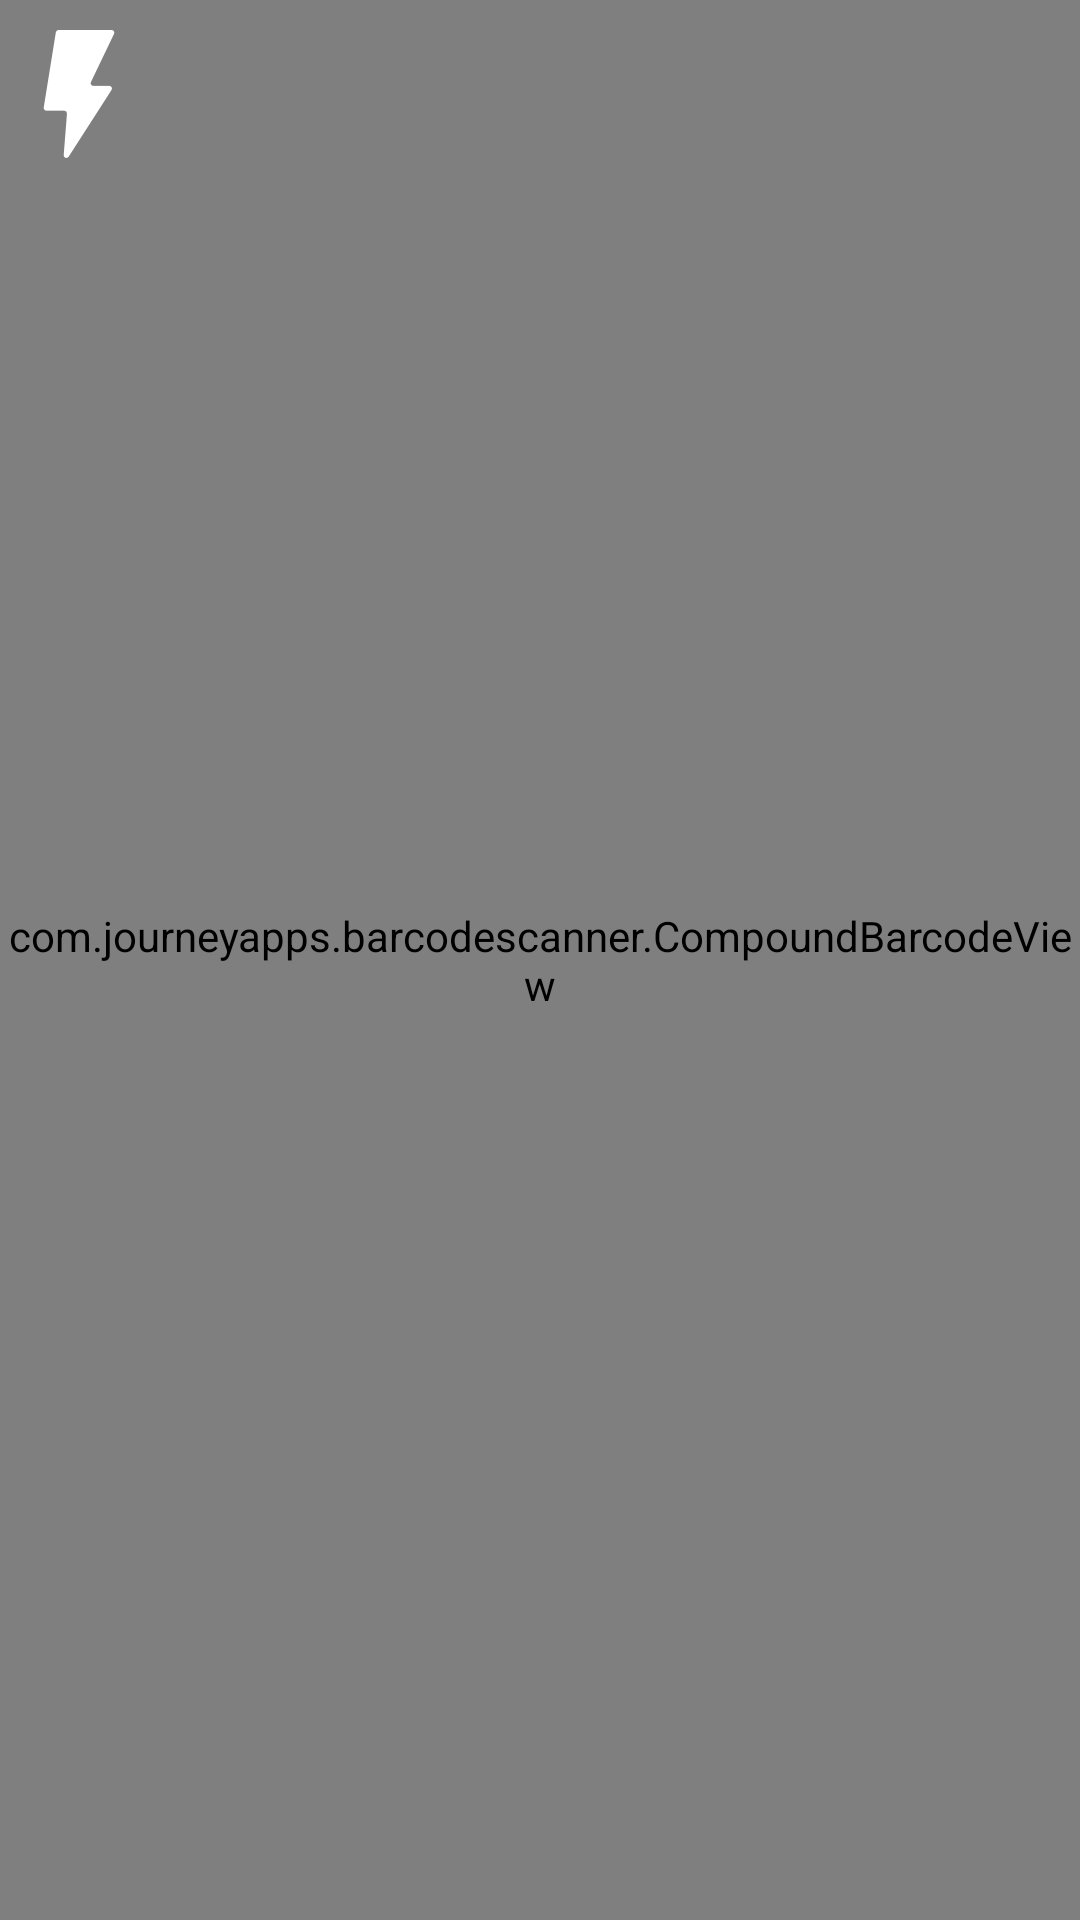

Named icons in this screenshot (1080 × 1920) and their bounding boxes, (x1, y1, x2, y2):
camera flash: (43, 30, 115, 158)
